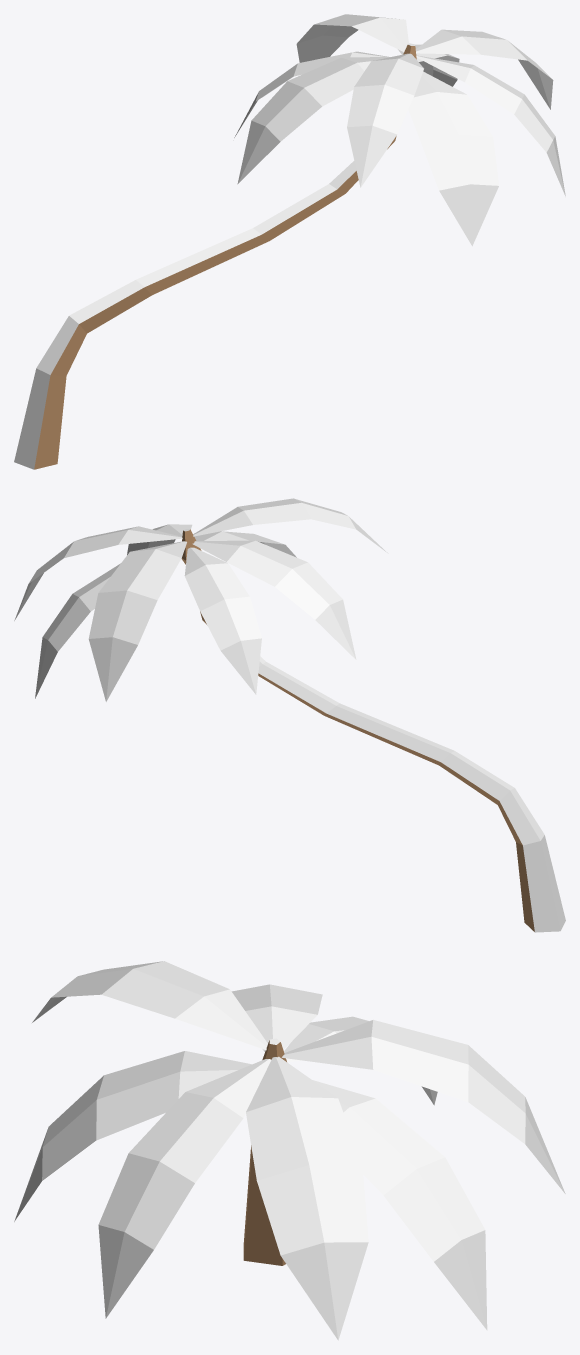
Rendered from Palm_Tree_OneSided_m_Snow_05.fbx.
3 renders of one model, top to bottom at view 1: azimuth 30°, elevation 25°; view 2: azimuth 150°, elevation 25°; view 3: azimuth 270°, elevation 25°, orthographic. The views are drawn at different scales.
Visible parts, largest first — view 1: Palm_Tree_OneSided_m_Snow_05; view 2: Palm_Tree_OneSided_m_Snow_05; view 3: Palm_Tree_OneSided_m_Snow_05.
Boxes of the visible parts, x1,y1,x2,y2 form: Palm_Tree_OneSided_m_Snow_05: [14, 14, 565, 469]; Palm_Tree_OneSided_m_Snow_05: [14, 498, 565, 932]; Palm_Tree_OneSided_m_Snow_05: [14, 961, 565, 1340].
Bounding box in the file's own units: 582 × 336 × 332.
